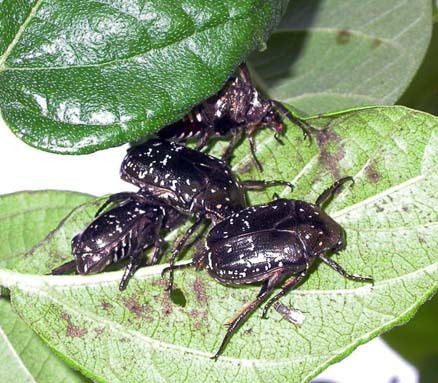Protaetia _orientalis: (164, 171, 378, 358), (122, 132, 293, 244), (68, 186, 191, 290)
